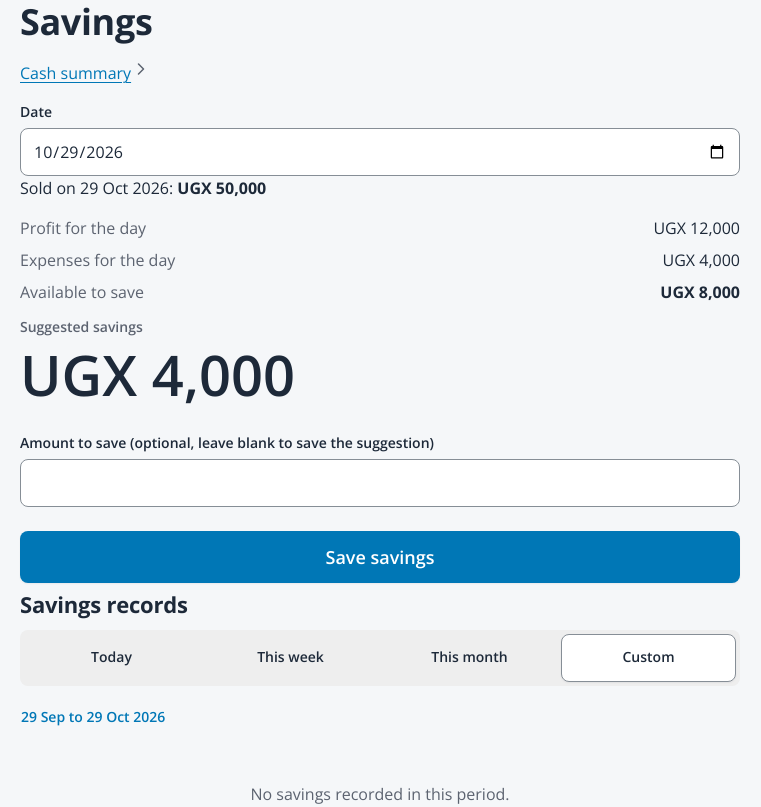
Test case: the savings screen › refuses an amount above the available under the field, in plain words, and sends nothing
Expected: the text "UGX 4,000" below "Suggested savings" is shown, [20, 336, 295, 412]
Type "9000" into the field labelled "Amount to save".
click(380, 483); type("9000")  # box [20, 459, 740, 507]
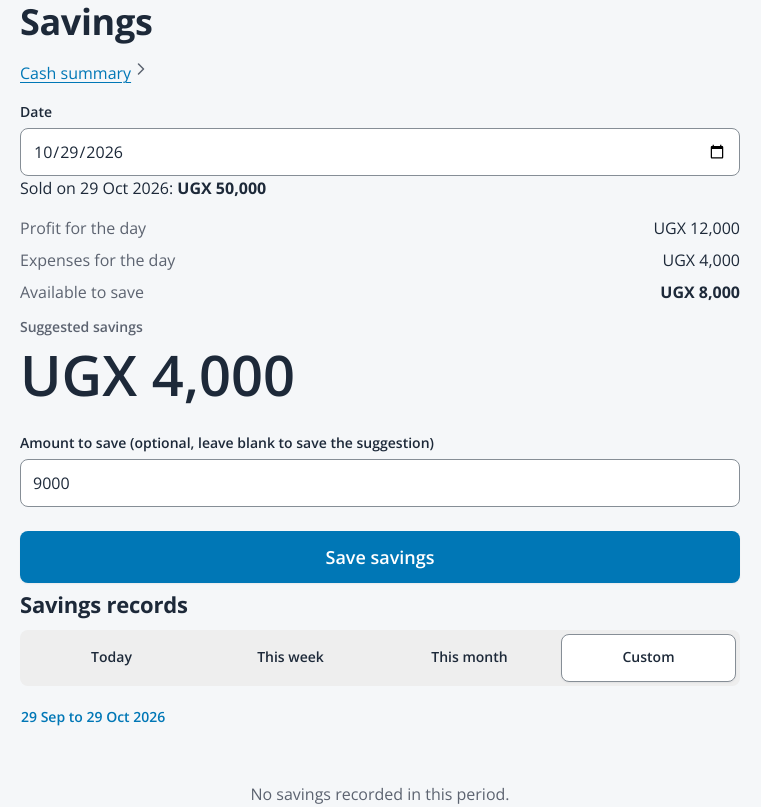
Leave the field labelled "Amount to save", box [20, 459, 740, 507]
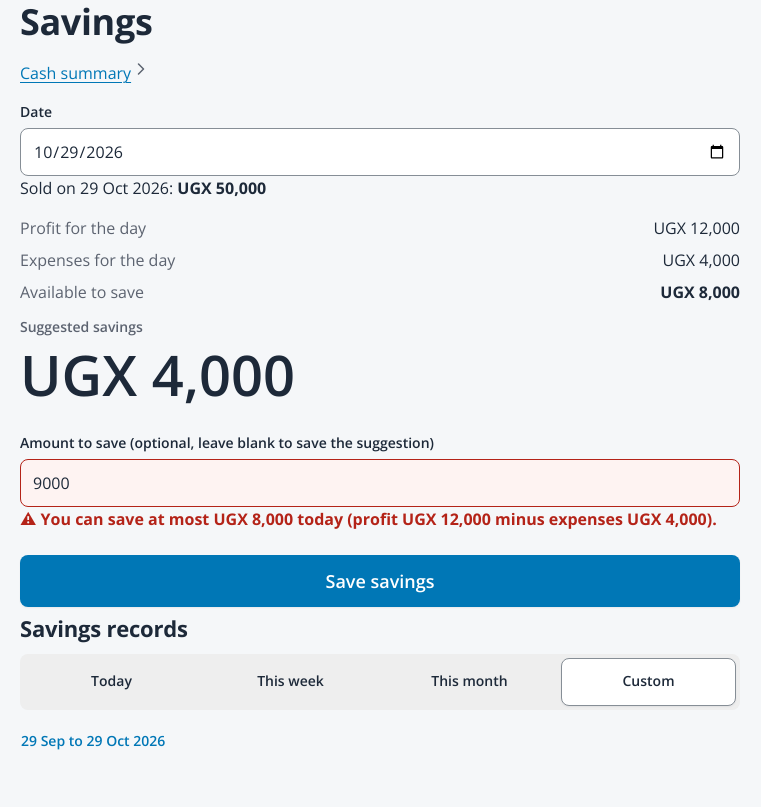
Expected: the message shows "You can save at most UGX 8,000 today (profit UGX 12,000 minus expenses UGX 4,000).", [41, 508, 717, 530]
Click the button "Save savings".
click(380, 581)  # box [20, 555, 740, 607]
(page scrolled)
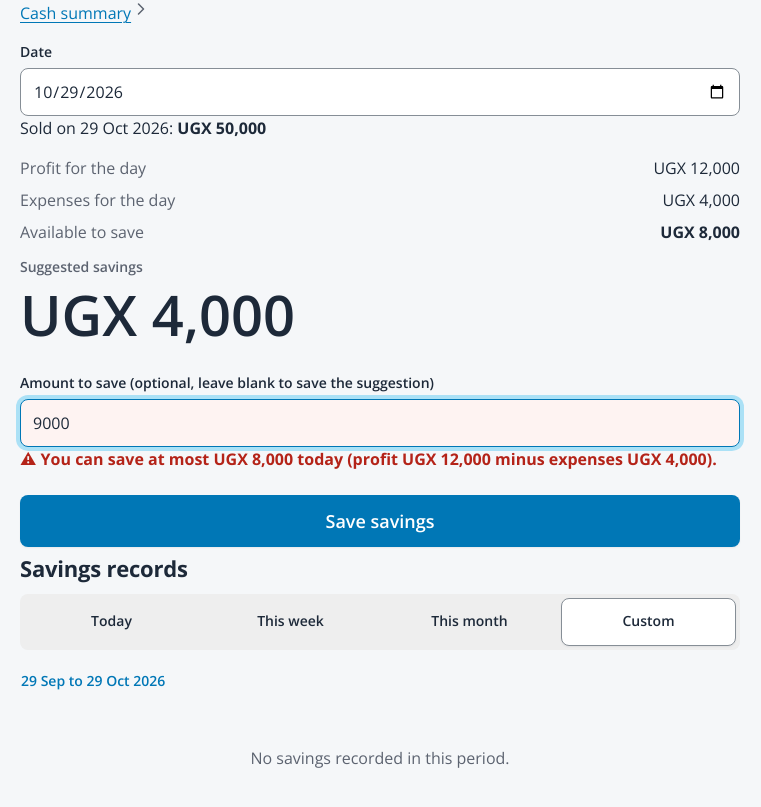
Replace the text in the field labelled "Amount to save" with "8000" at x=380, y=423, box [20, 399, 740, 447]
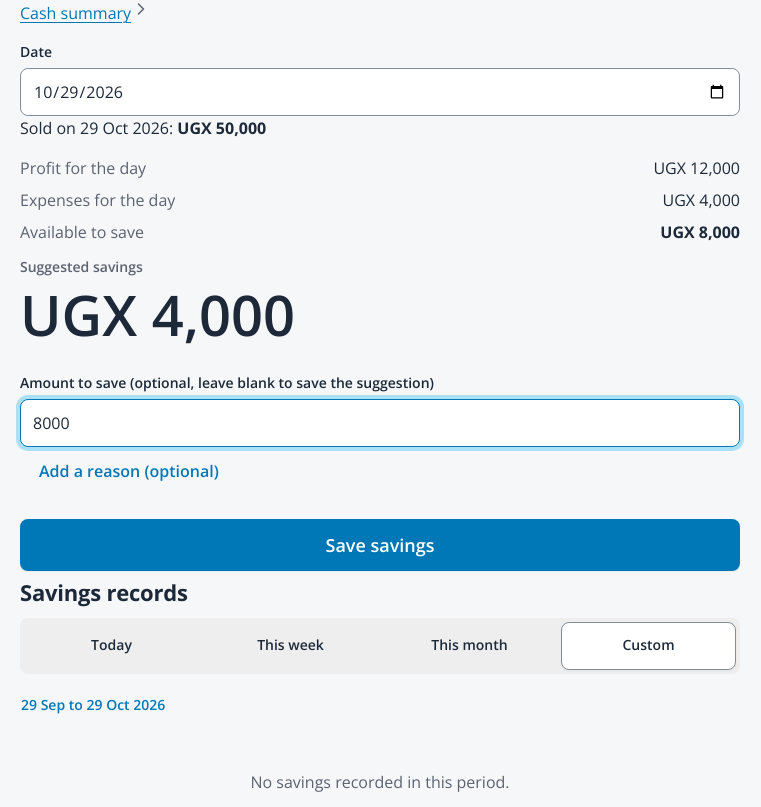
Expected: the message is gone
